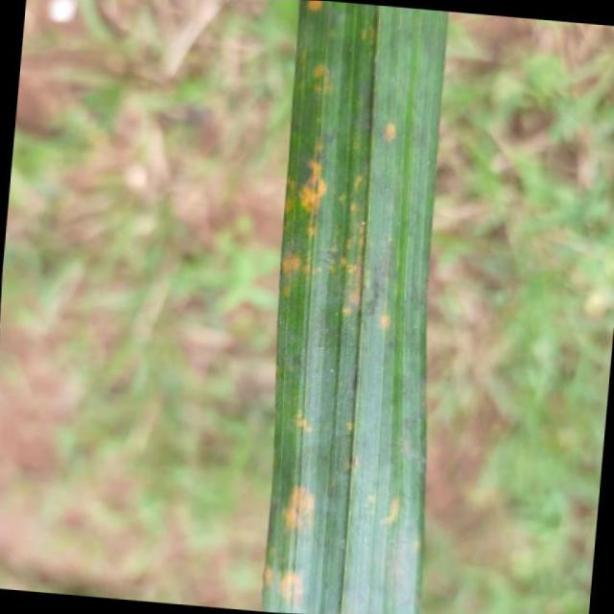Kalium: (262, 0, 453, 614)
